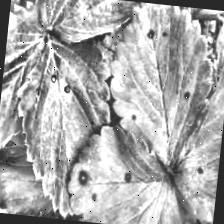Leaf Spot: (4, 31, 120, 223), (100, 0, 218, 177), (62, 121, 193, 224), (163, 21, 224, 224), (0, 0, 49, 168), (26, 0, 153, 50)
